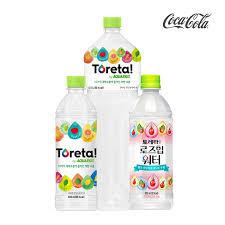toreta: (51, 72, 99, 212)
